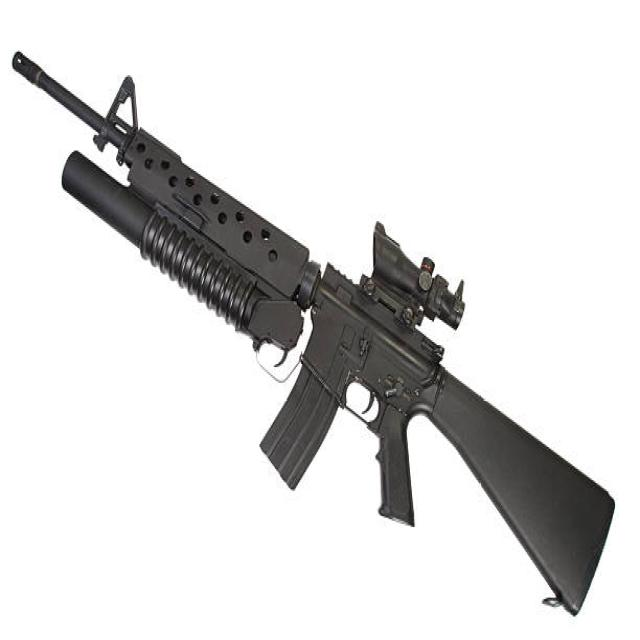rifle: (9, 43, 621, 620)
